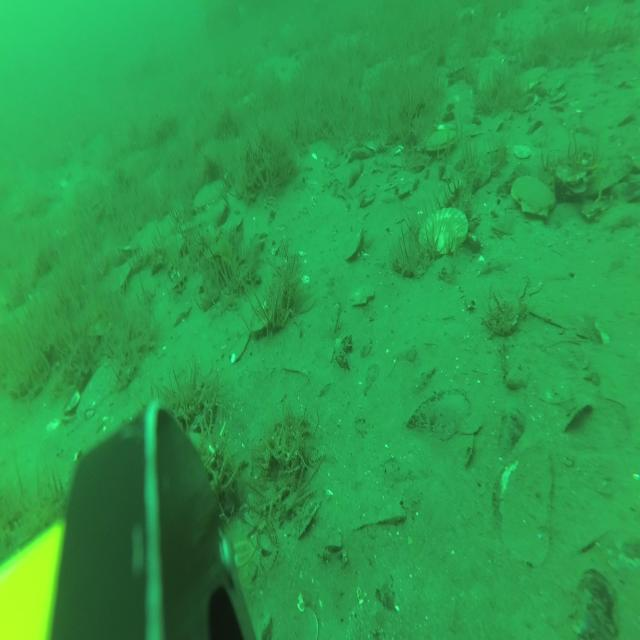scallop: (419, 205, 470, 260), (508, 171, 558, 221), (422, 121, 460, 157), (514, 62, 550, 99), (192, 177, 227, 215), (350, 280, 376, 308)
